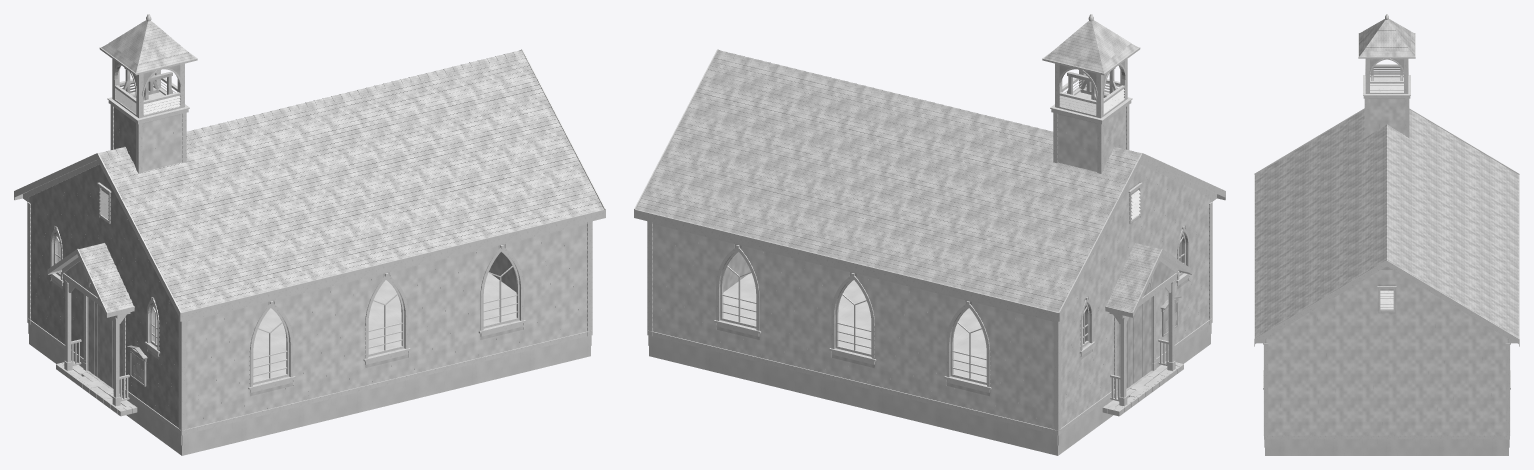
Rendered from SM_Town_Church_Shell.glb.
The picture shows the model from 3 angles, left to right: view 1: azimuth 30°, elevation 25°; view 2: azimuth 150°, elevation 25°; view 3: azimuth 270°, elevation 25°; orthographic projection. The views are drawn at different scales.
Visible parts, largest first — view 1: SM_Town_Church_Shell; view 2: SM_Town_Church_Shell; view 3: SM_Town_Church_Shell.
Boxes of the visible parts, x1,y1,x2,y2 form: SM_Town_Church_Shell: [14, 14, 605, 455]; SM_Town_Church_Shell: [634, 14, 1225, 455]; SM_Town_Church_Shell: [1254, 14, 1519, 455].
Bounding box in the file's own units: 15.47 × 12.44 × 10.
11 materials, 11 textured.
